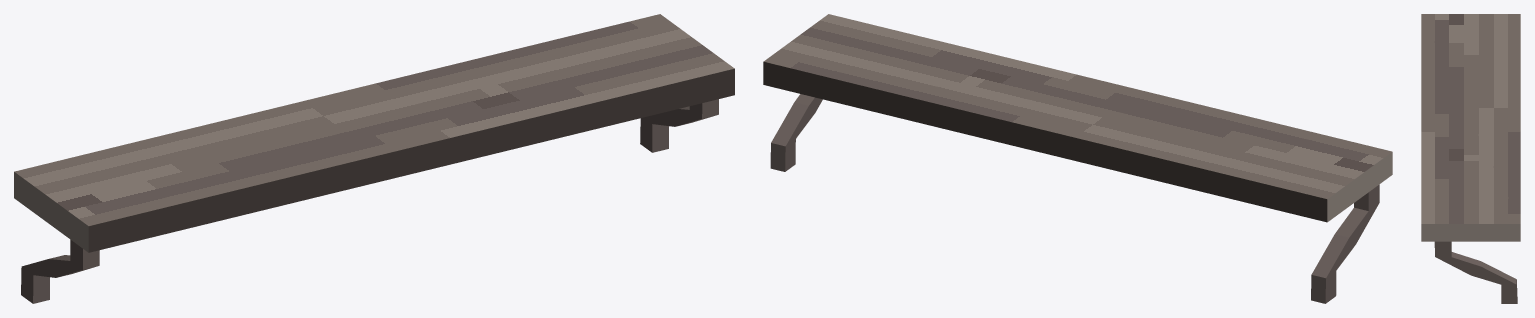
File: bookshelf_919x01.gltf
3 renders of one model, left to right at view 1: azimuth 30°, elevation 25°; view 2: azimuth 150°, elevation 25°; view 3: azimuth 270°, elevation 25°, orthographic. The views are drawn at different scales.
Parts seen in each view (by area): view 1: bookshelf_919x01; view 2: bookshelf_919x01; view 3: bookshelf_919x01.
Part boxes in pixels (x1,y1,x2,y2): bookshelf_919x01: (14,14,734,303); bookshelf_919x01: (763,14,1392,303); bookshelf_919x01: (1421,14,1520,303).
Bounding box in the file's own units: 5 × 0.9081 × 1.
1 material, 1 textured.
